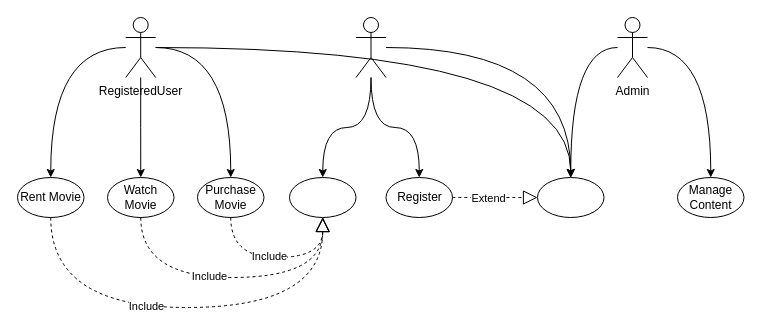
This 762x330 diagram has some shape labels left out. The shapes that lost their labels are listed below. From the top down, each one's centre as x and y in pixels, then its label:
At [370,47]: "Guest".
At [322,197]: "Login".
At [570,197]: "Browse Movies".
